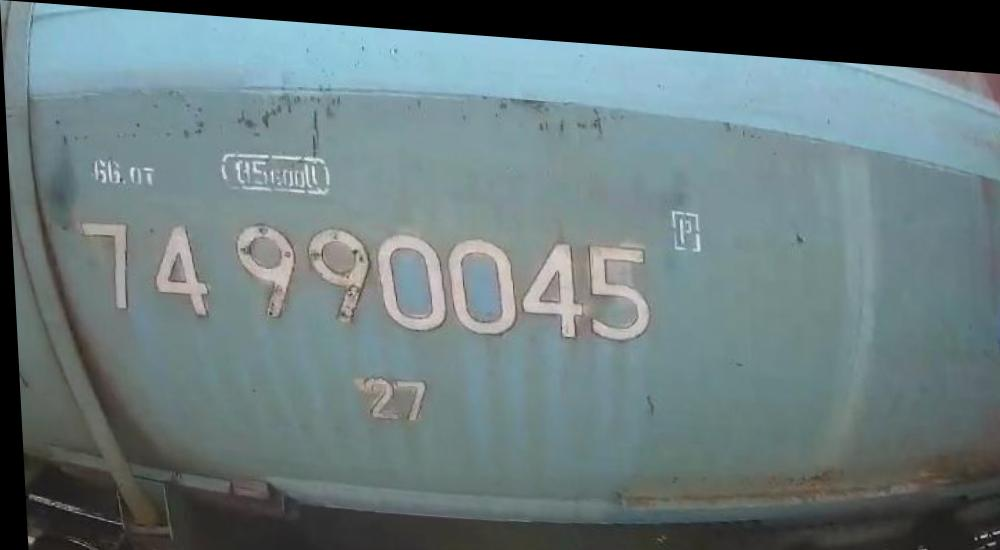Wagon-number: (73, 196, 659, 352)
